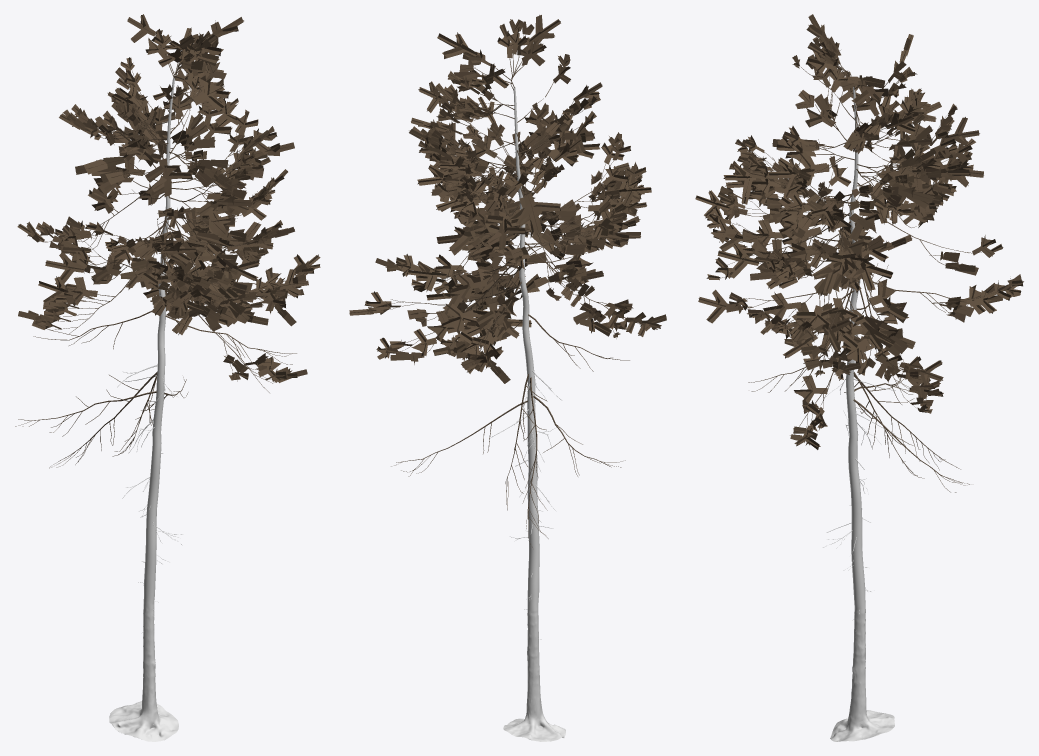
Rendered from fir_c.glb.
The picture shows the model from 3 angles, left to right: view 1: azimuth 30°, elevation 25°; view 2: azimuth 150°, elevation 25°; view 3: azimuth 270°, elevation 25°; orthographic projection. The views are drawn at different scales.
Visible parts, largest first — view 1: fir_tree_01_c_LOD2; view 2: fir_tree_01_c_LOD2; view 3: fir_tree_01_c_LOD2.
Part boxes in pixels (left/top/right/bottom): fir_tree_01_c_LOD2: left=15, top=14, right=320, bottom=741; fir_tree_01_c_LOD2: left=349, top=15, right=666, bottom=741; fir_tree_01_c_LOD2: left=695, top=14, right=1023, bottom=741.
Size of the model in its own units: 6.35 by 14.55 by 6.01.
